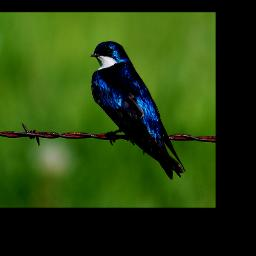Swallow: (89, 41, 186, 180)
